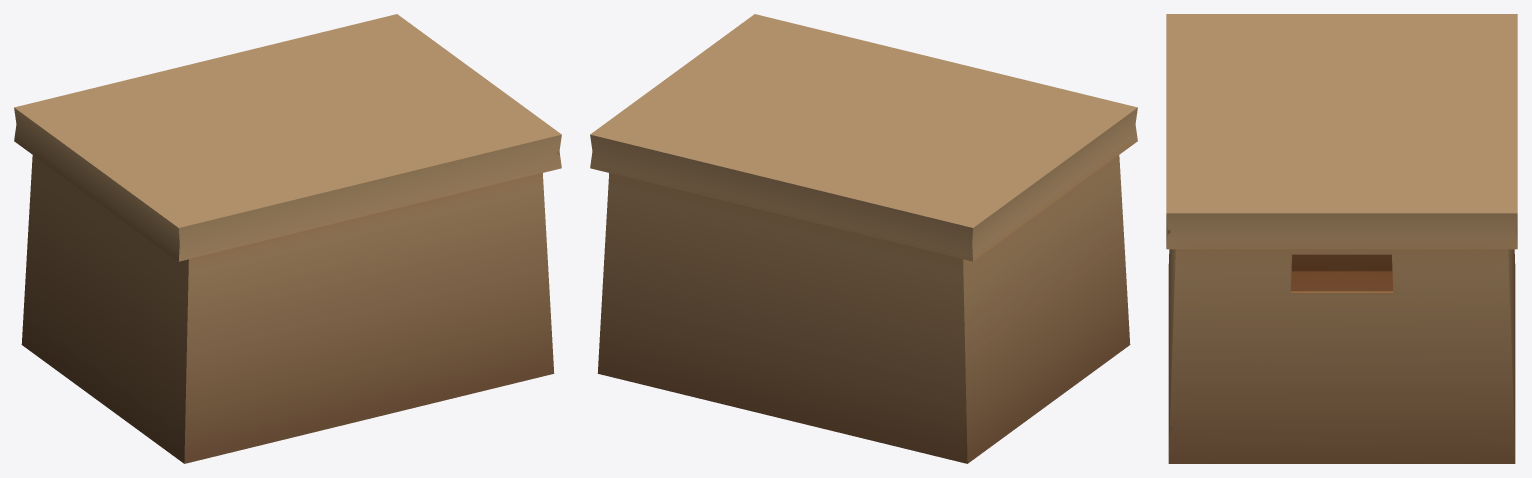
Rendered from NexiBox.fbx.
3 renders of one model, left to right at view 1: azimuth 30°, elevation 25°; view 2: azimuth 150°, elevation 25°; view 3: azimuth 270°, elevation 25°, orthographic. The views are drawn at different scales.
Parts seen in each view (by area): view 1: Box, BoxLid; view 2: Box, BoxLid; view 3: BoxLid, Box.
Part boxes in pixels (x1,y1,x2,y2): Box: (21, 155, 554, 463); BoxLid: (14, 14, 561, 261); Box: (597, 155, 1130, 463); BoxLid: (590, 14, 1137, 261); BoxLid: (1166, 14, 1517, 249); Box: (1168, 249, 1515, 463).
Bounding box in the file's own units: 122 × 72.23 × 90.51.
